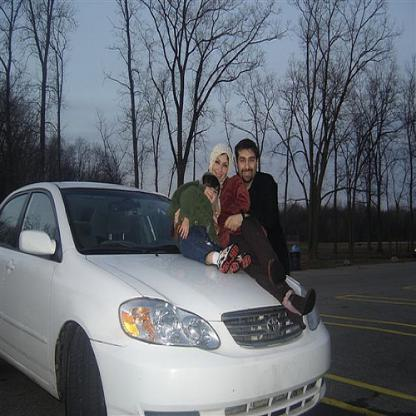car: (1, 181, 333, 416)
person: (206, 143, 317, 320), (233, 137, 292, 283), (171, 172, 252, 276)
